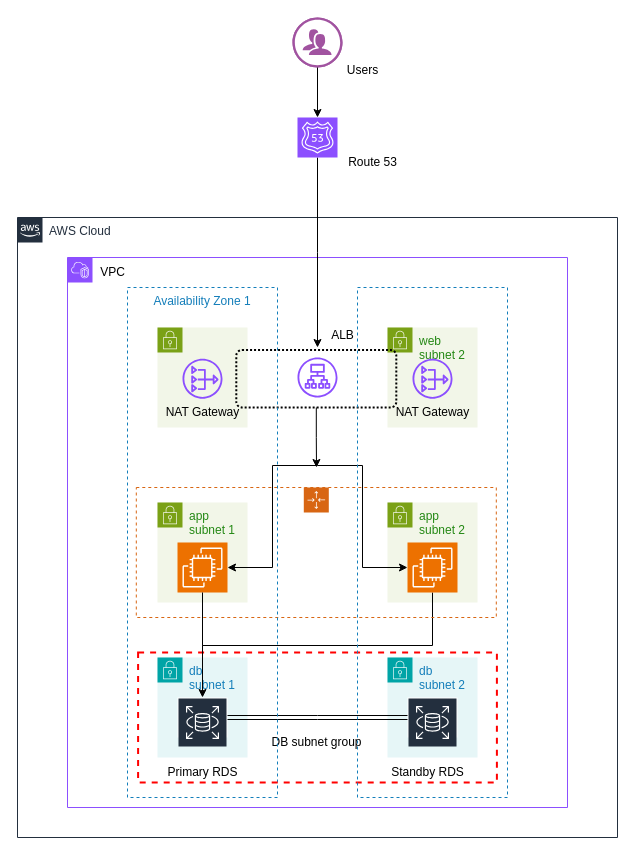
Image size: 635x855. Some labels were removed from this diagram. The shapes that lost their labels are listed below. From the top down, each one's box as (x1, y1, x2, y2) in pixels, then its label:
(156, 326, 248, 428): web subnet 1
(135, 486, 496, 618): Auto Scaling group
(356, 286, 508, 798): Availability Zone 2
